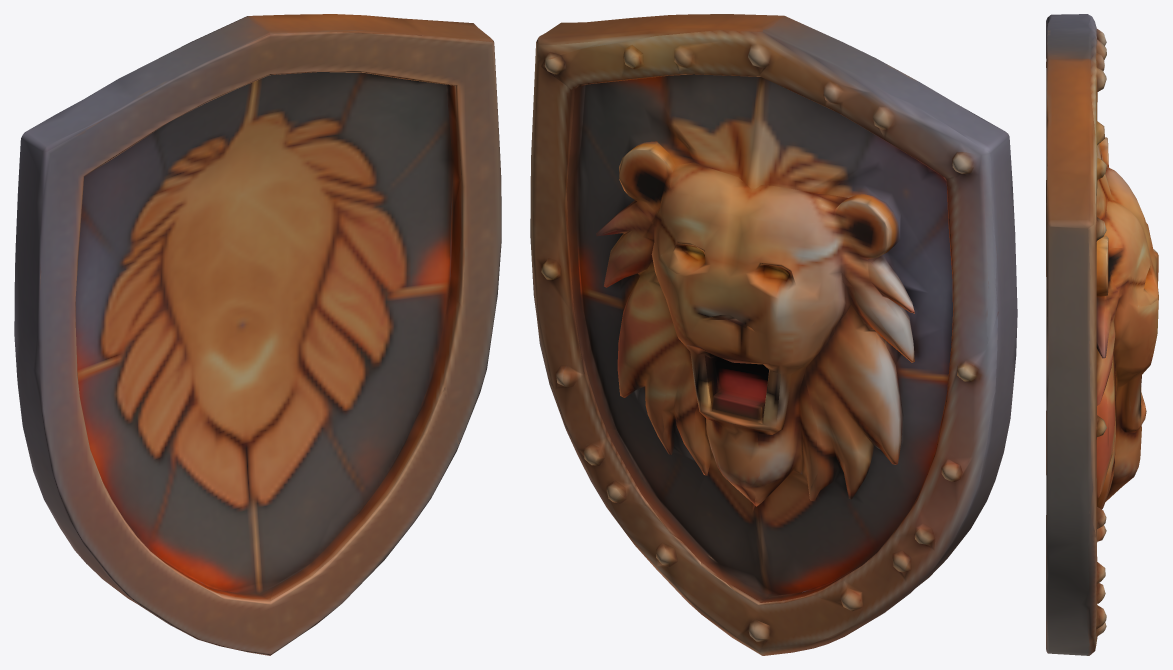
The picture shows the model from 3 angles, left to right: view 1: azimuth 30°, elevation 25°; view 2: azimuth 150°, elevation 25°; view 3: azimuth 270°, elevation 25°; orthographic projection. The views are drawn at different scales.
Parts seen in each view (by area): view 1: tank; view 2: tank; view 3: tank.
Part boxes in pixels (x1,y1,x2,y2): tank: (14,14,501,655); tank: (530,14,1017,655); tank: (1046,14,1158,655).
Size of the model in its own units: 0.4376 by 0.56 by 0.0966.
1 material, 1 textured.
